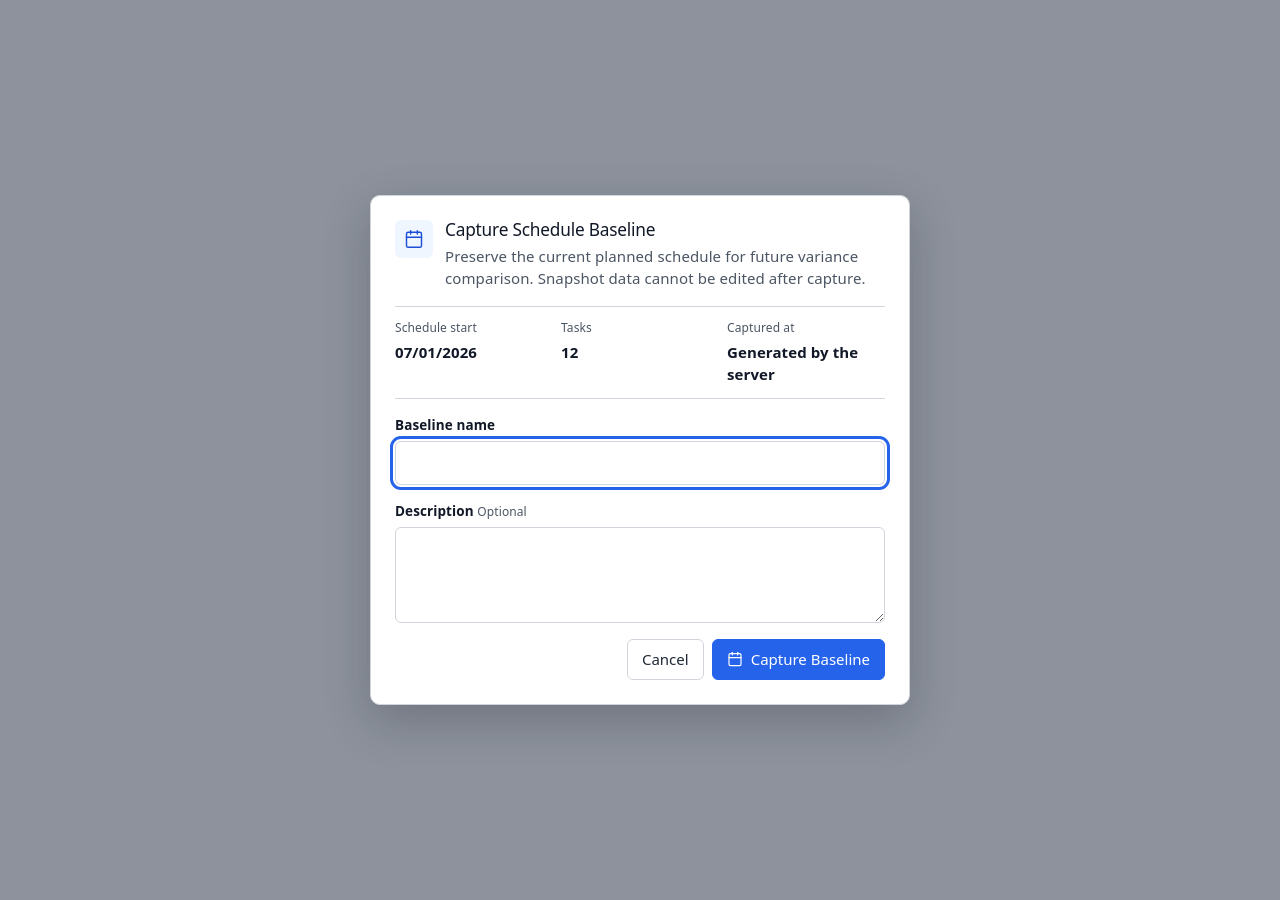
CreateBaselineDialog › explains immutable server capture context and validates the name
Expected: the text "cannot be edited after capture" is shown, [445,246,866,288]
Expected: the text "07/01/2026" is shown, [395,342,477,362]
Click the button "Capture Baseline".
click(798, 659)  # box [712,639,885,680]
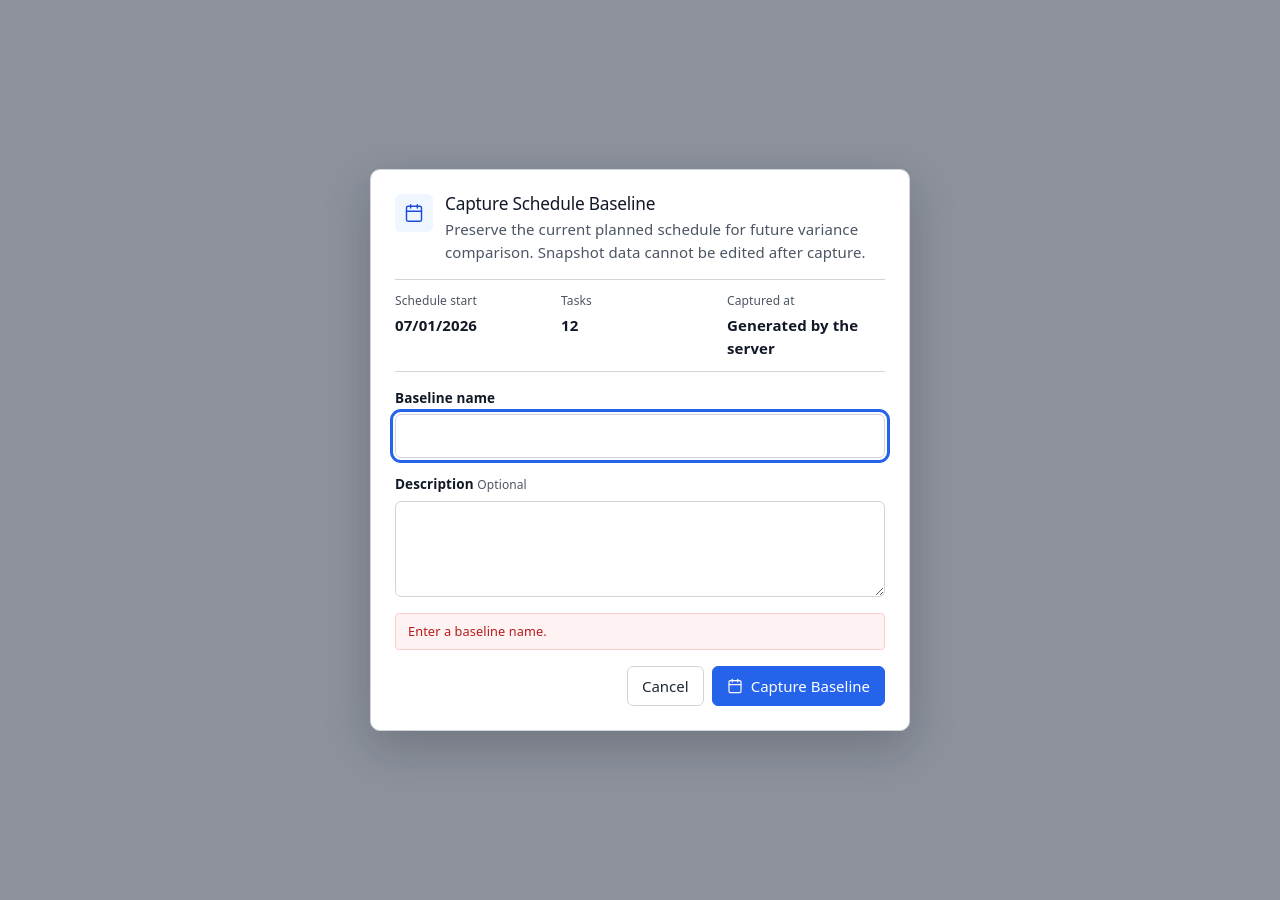
Result: the message shows "Enter a baseline name" at [408,622,547,640]
